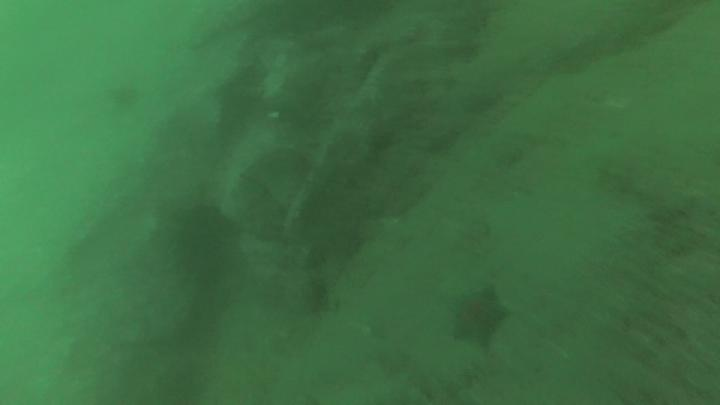echinus: (180, 206, 237, 269)
starfish: (448, 286, 508, 350)
